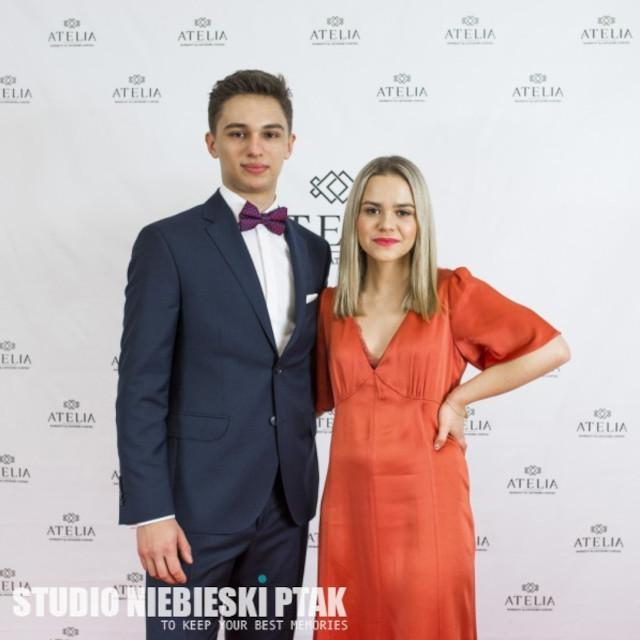kobieta: (328, 154, 567, 640)
mezczyzna: (114, 65, 324, 640)
